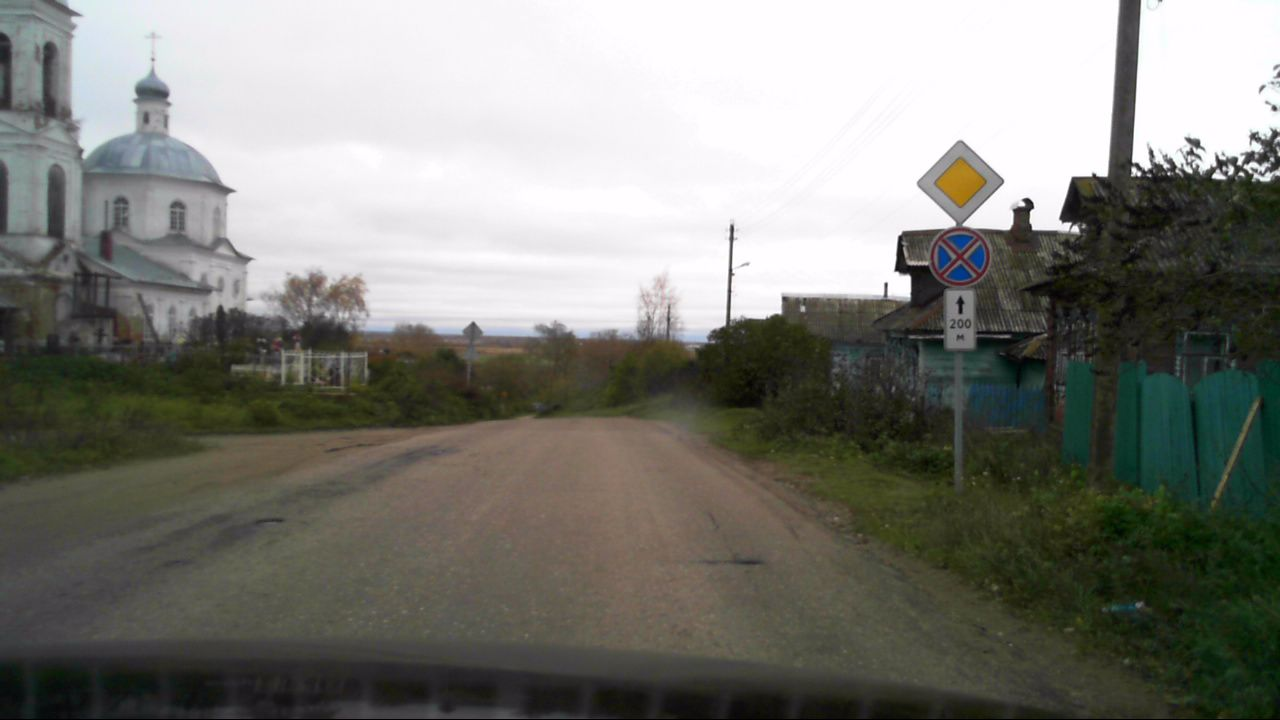No Parking: (929, 226, 992, 289)
